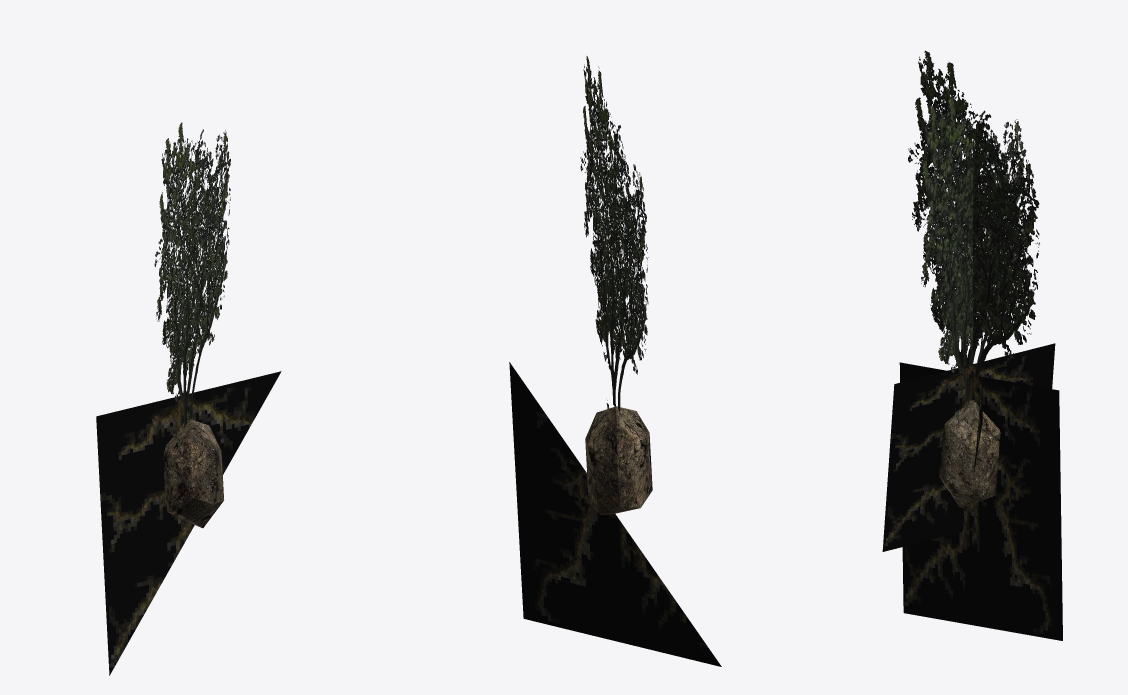
File: ITPL_TEMP_HERB.glb
3 renders of one model, left to right at view 1: azimuth 30°, elevation 25°; view 2: azimuth 150°, elevation 25°; view 3: azimuth 270°, elevation 25°, orthographic. The views are drawn at different scales.
Visible parts, largest first — view 1: ITPL_TEMP_HERB; view 2: ITPL_TEMP_HERB; view 3: ITPL_TEMP_HERB.
Part boxes in pixels (left/top/right/bottom): ITPL_TEMP_HERB: left=96, top=122, right=281, bottom=675; ITPL_TEMP_HERB: left=509, top=56, right=721, bottom=666; ITPL_TEMP_HERB: left=882, top=50, right=1062, bottom=640.
Size of the model in its own units: 0.7906 by 1.47 by 0.6203.
3 materials, 3 textured.
